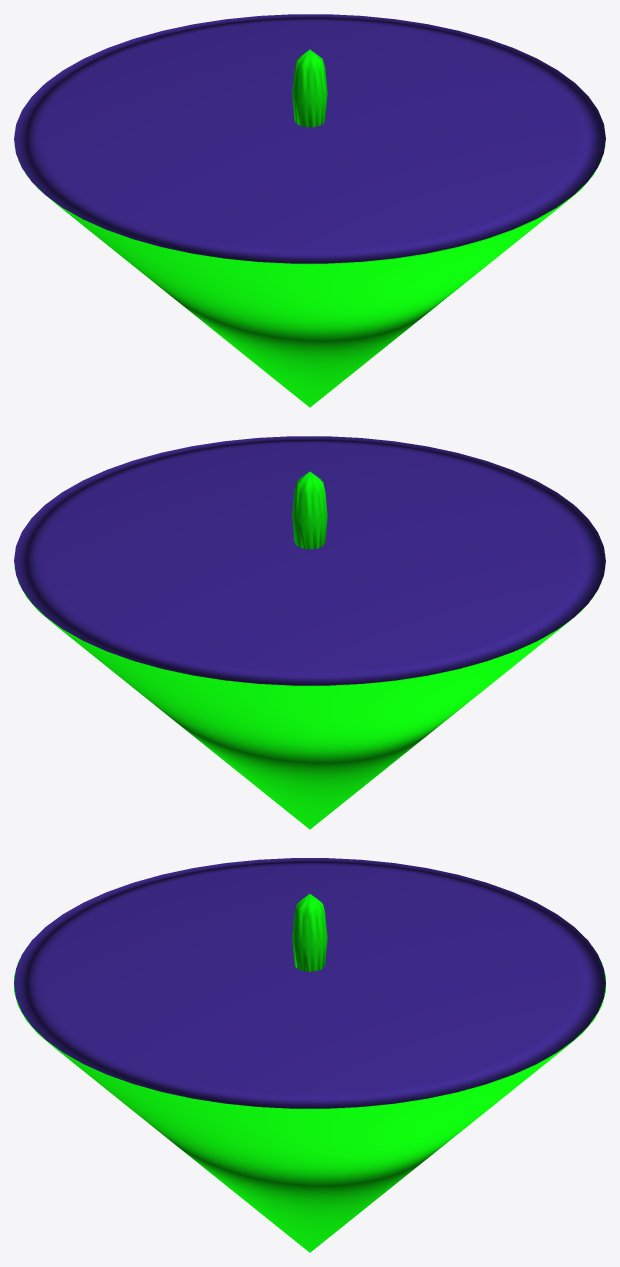
3 renders of one model, top to bottom at view 1: azimuth 30°, elevation 25°; view 2: azimuth 150°, elevation 25°; view 3: azimuth 270°, elevation 25°, orthographic.
Visible parts, largest first — view 1: FBXASC051dSolid; view 2: FBXASC051dSolid; view 3: FBXASC051dSolid.
Boxes of the visible parts, <box> form: FBXASC051dSolid: <box>14,14,605,407</box>; FBXASC051dSolid: <box>14,436,605,829</box>; FBXASC051dSolid: <box>14,858,605,1252</box>.
Size of the model in its own units: 2 by 2 by 1.34.
